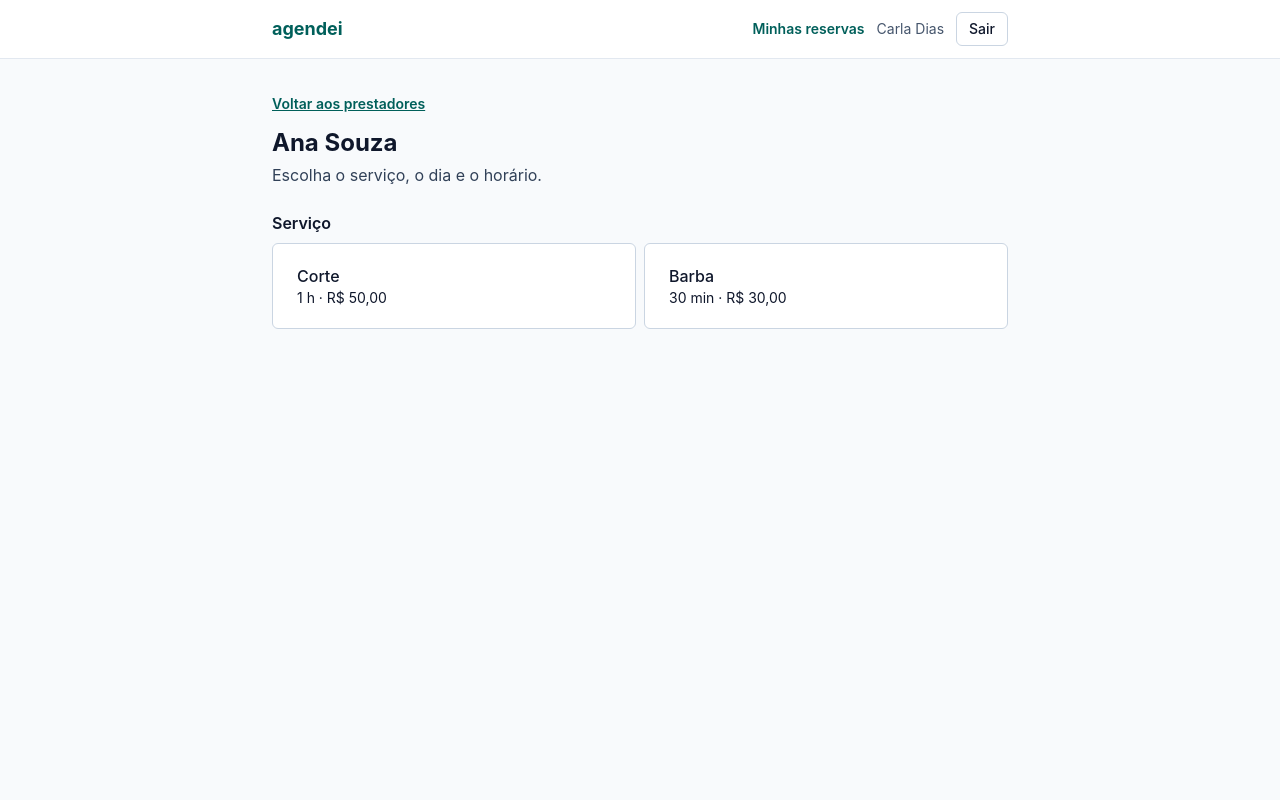
Test: reservar um horário › mostra os horários no fuso do prestador
This screenshot has width=1280, height=800.
What coordinates should you click on to do the following:
click the radio button labelled "Corte 1 h · R$ 50,00"
I would click on:
 (318, 276)
Its box is [272,243,636,329].
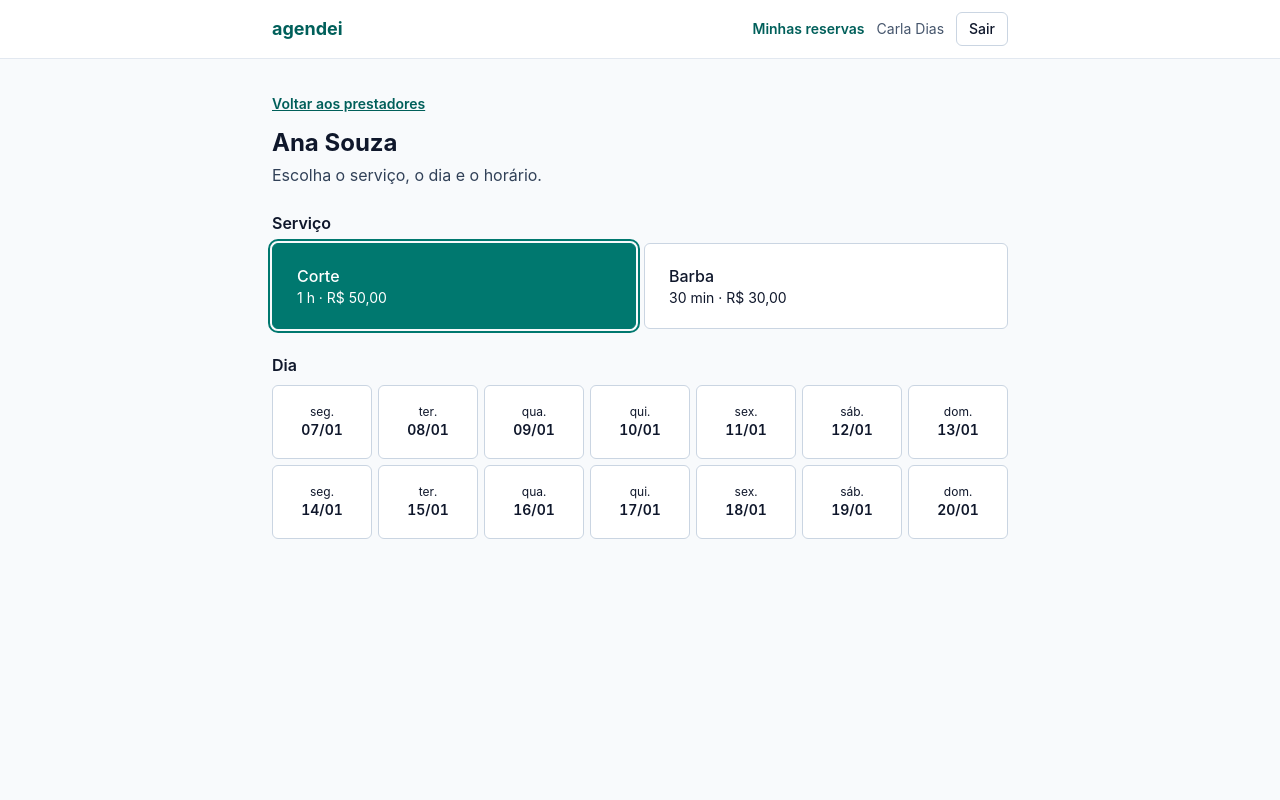
What coordinates should you click on to do the following:
click the radio button named "segunda-feira, 7 de janeiro"
I would click on:
 (322, 422)
Its box is [272,385,372,459].
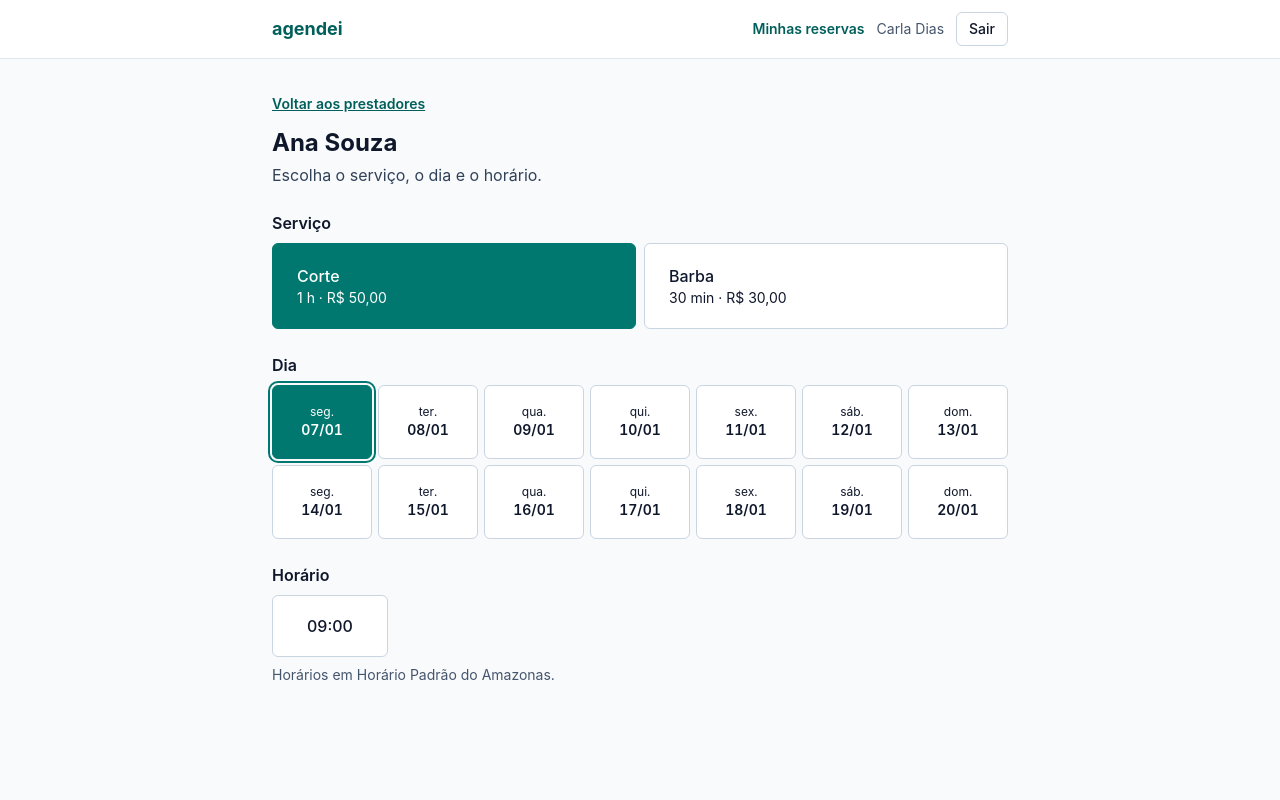
Expected: the radio button labelled "09:00" is shown, [272,595,388,657]
Expected: the text "Horários em Horário Padrão do Amazonas." is shown, [272,666,555,683]
